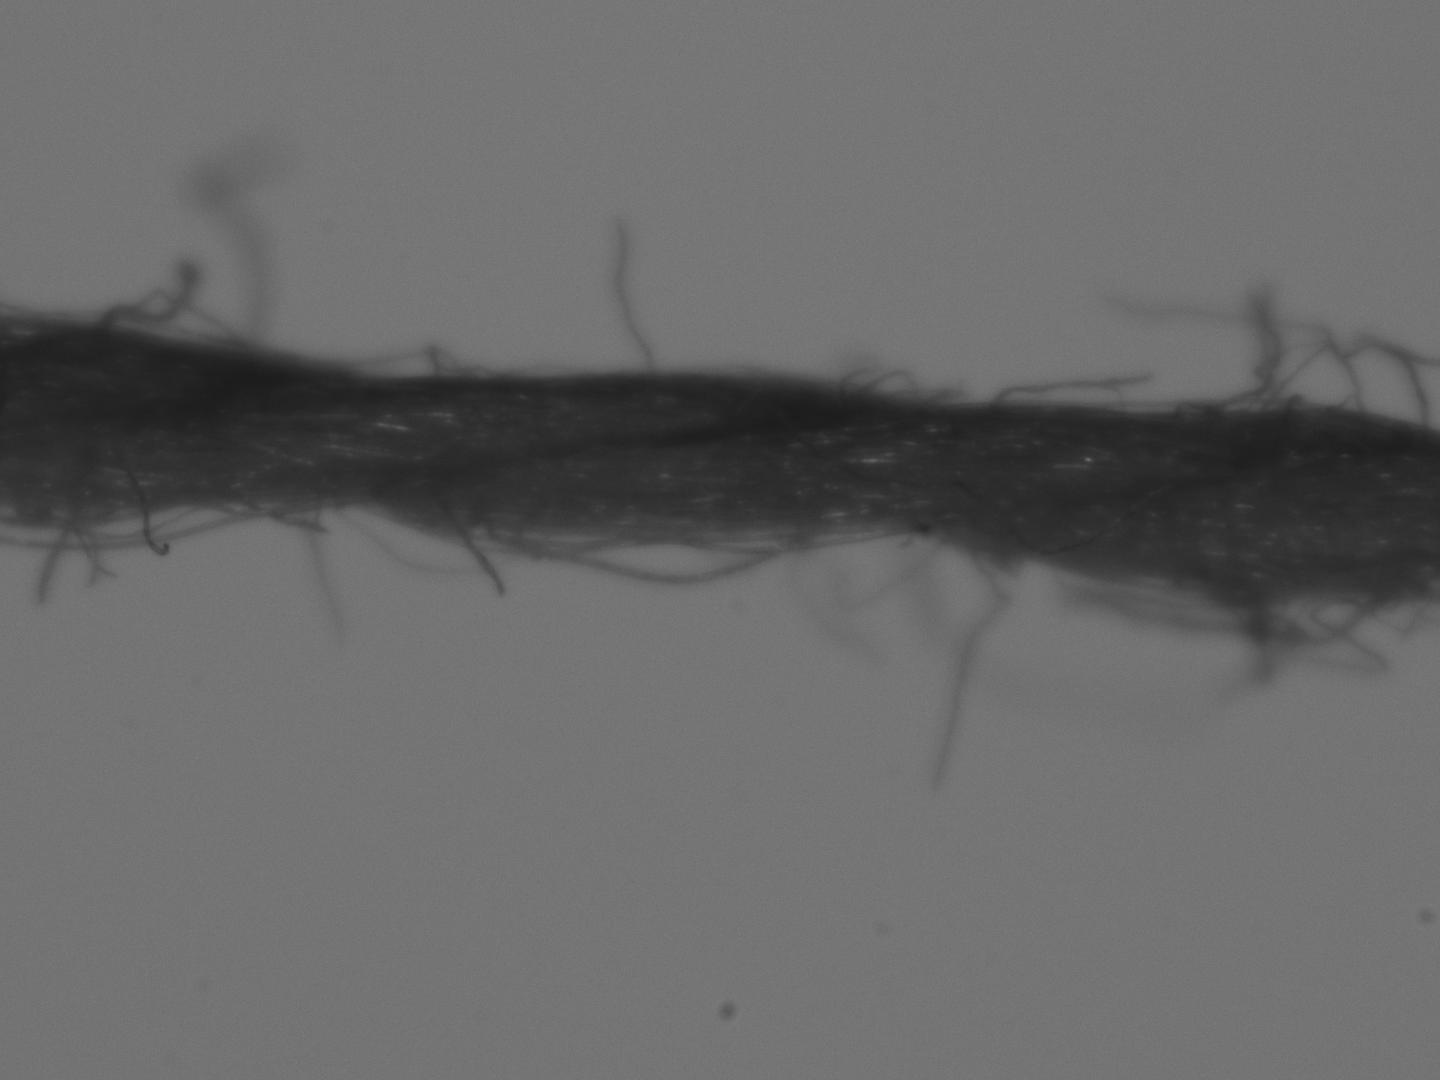loop_fiber: (1057, 564, 1439, 693), (371, 503, 937, 588), (1177, 293, 1439, 433), (1, 492, 345, 554), (95, 253, 238, 348), (336, 340, 514, 380), (985, 379, 1129, 421), (832, 365, 960, 406)
protruding_fiber: (930, 538, 1013, 790), (194, 144, 274, 345), (609, 209, 663, 378), (437, 507, 513, 598), (308, 493, 344, 650), (39, 498, 73, 598)
